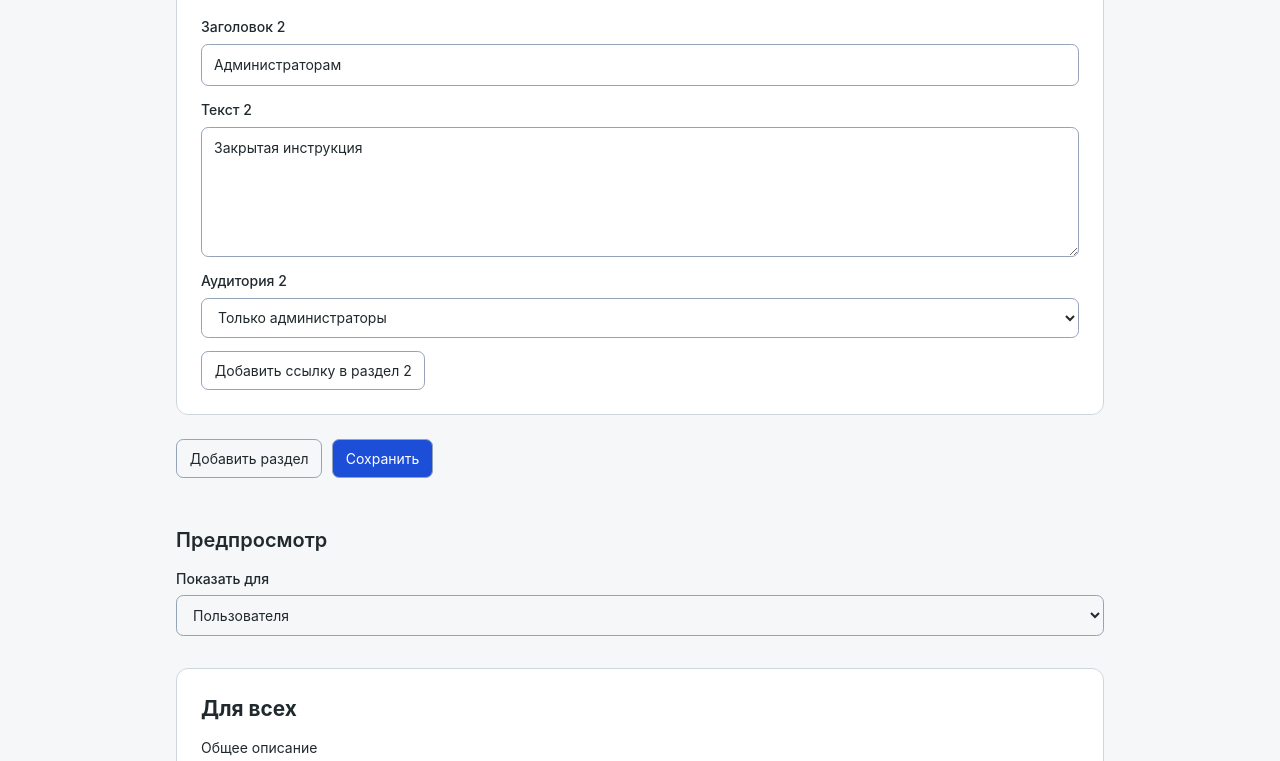
Scenario: reorders blocks and links and previews only the selected audience
(page scrolled)
Select "Администратора" in the dropdown labelled "Показать для" at (640, 616), box left=176, top=596, right=1104, bottom=636
(page scrolled)
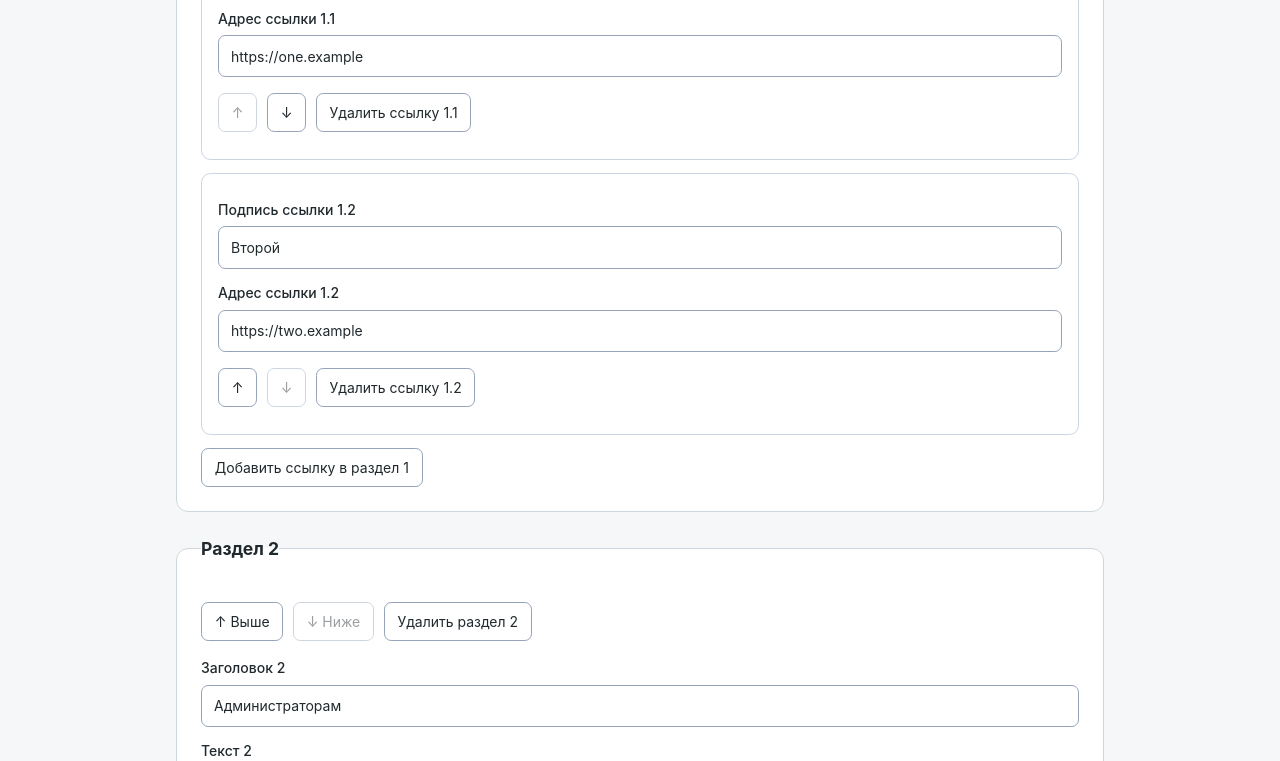
Click the button named "Ссылка 1.2 выше" at (238, 387), box left=218, top=368, right=257, bottom=407
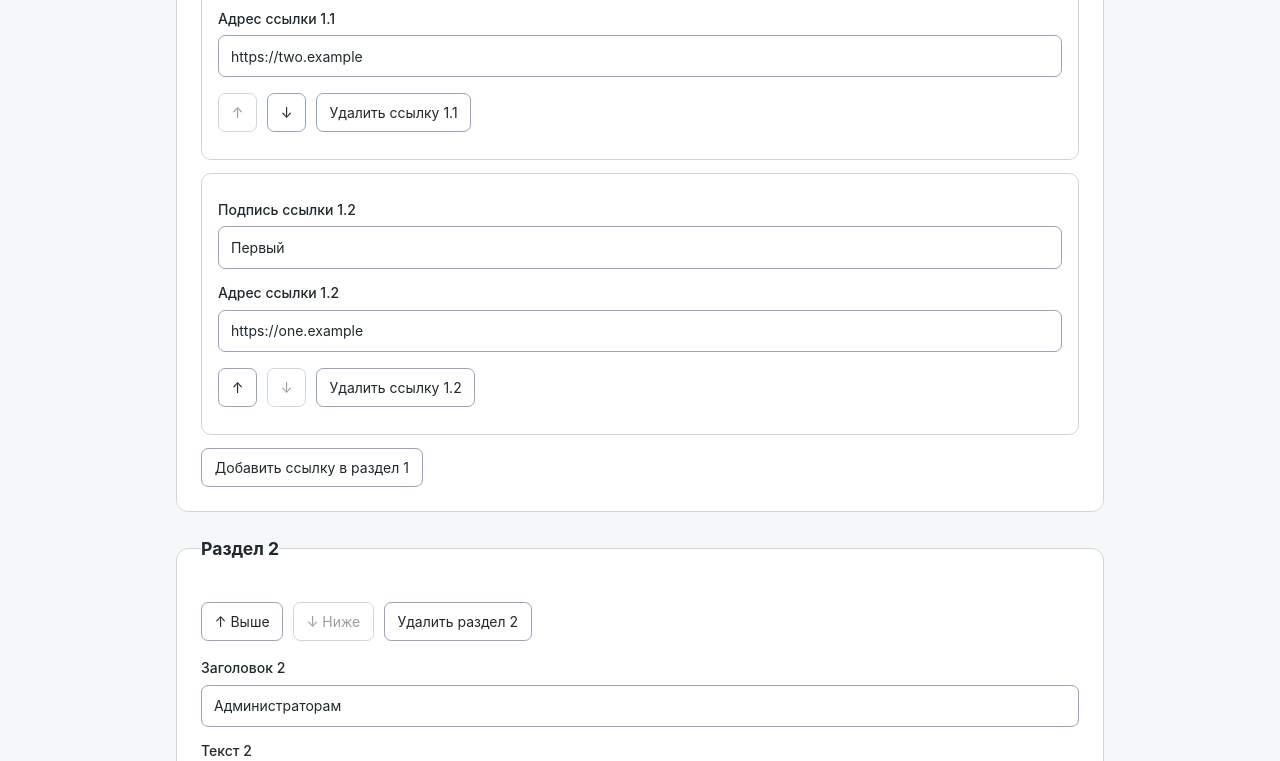
Click the button with aria-label "Раздел 2 выше" at (242, 622), box left=201, top=602, right=283, bottom=641
(page scrolled)
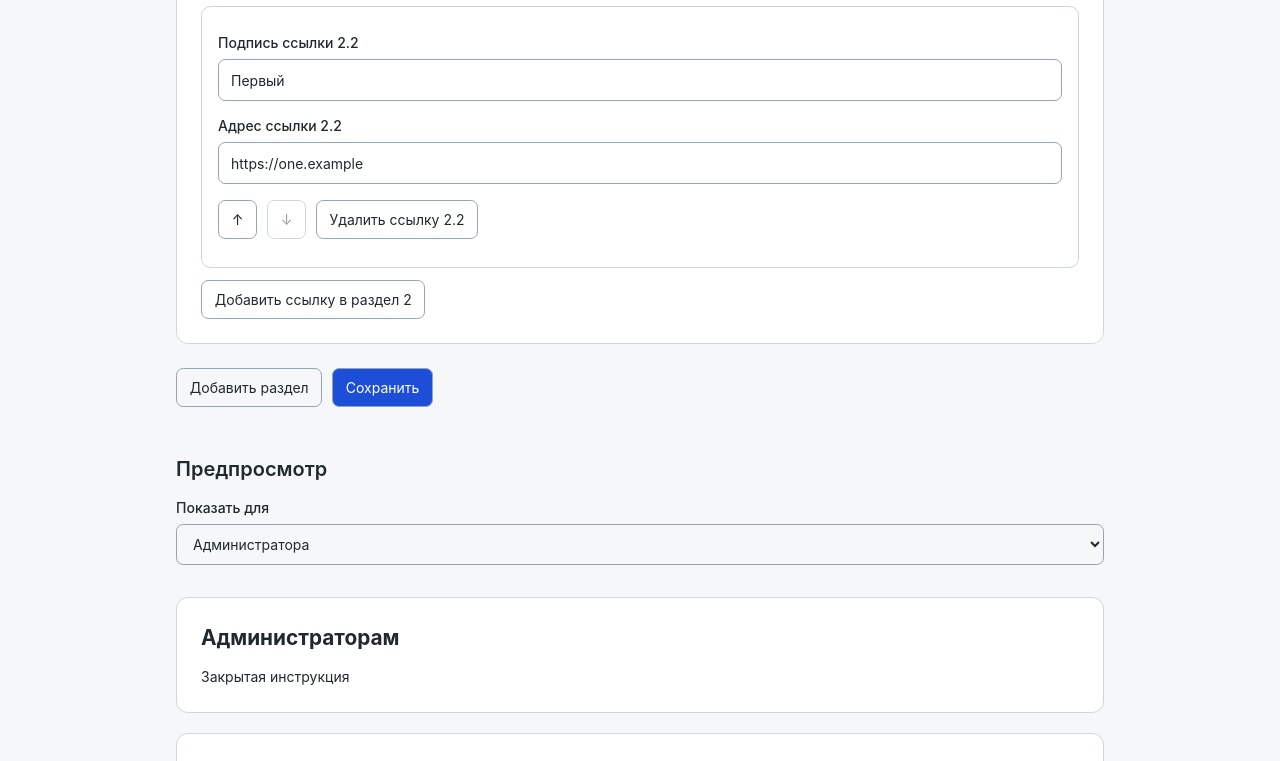
Click the button "Сохранить" at (383, 388), box left=332, top=368, right=433, bottom=408
(page scrolled)
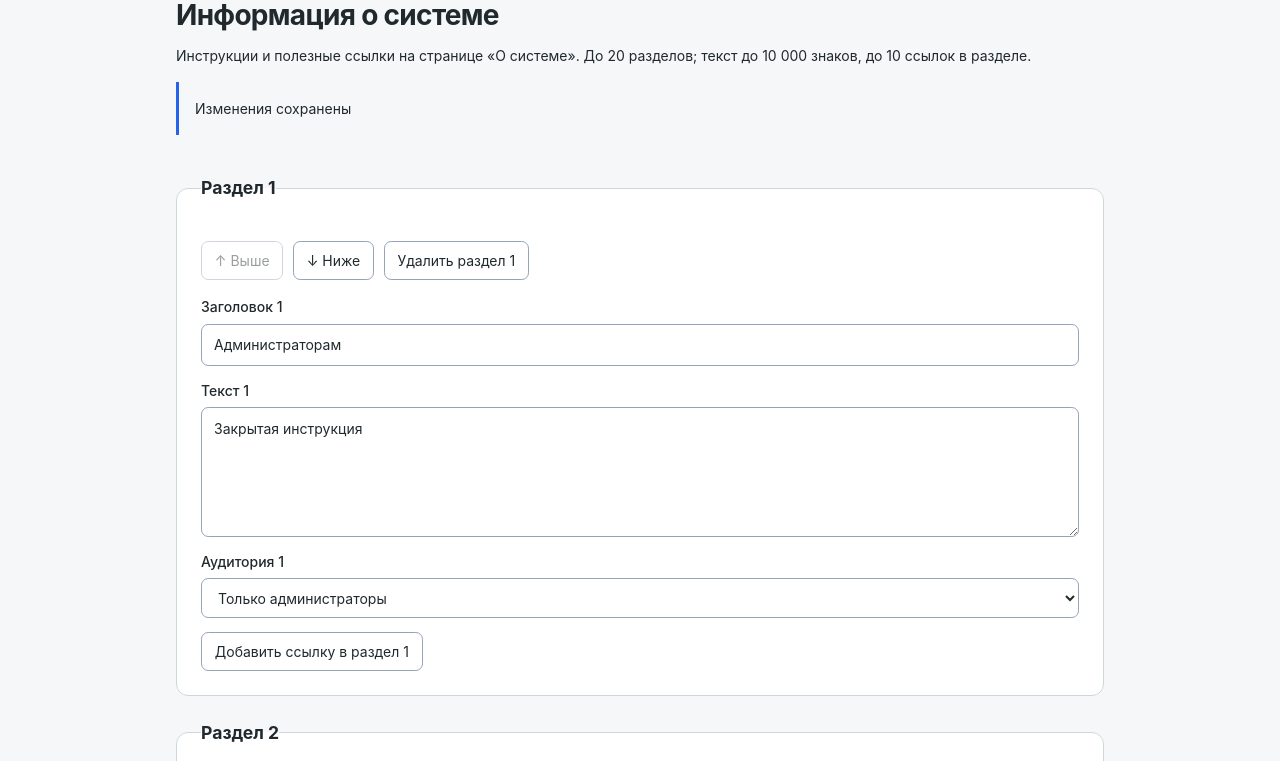
Now the text "Изменения сохранены" is shown, box left=176, top=82, right=1104, bottom=135
